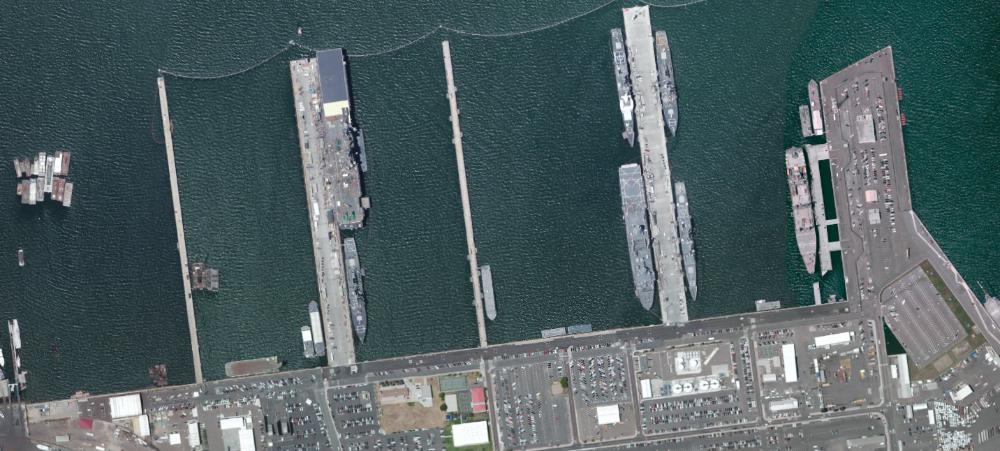amphiby: (618, 163, 660, 310)
destroyer: (610, 27, 638, 147), (675, 182, 700, 303)
fregate: (655, 28, 682, 137), (343, 239, 370, 343)
pha: (315, 52, 370, 232)
tender: (785, 148, 823, 278)
